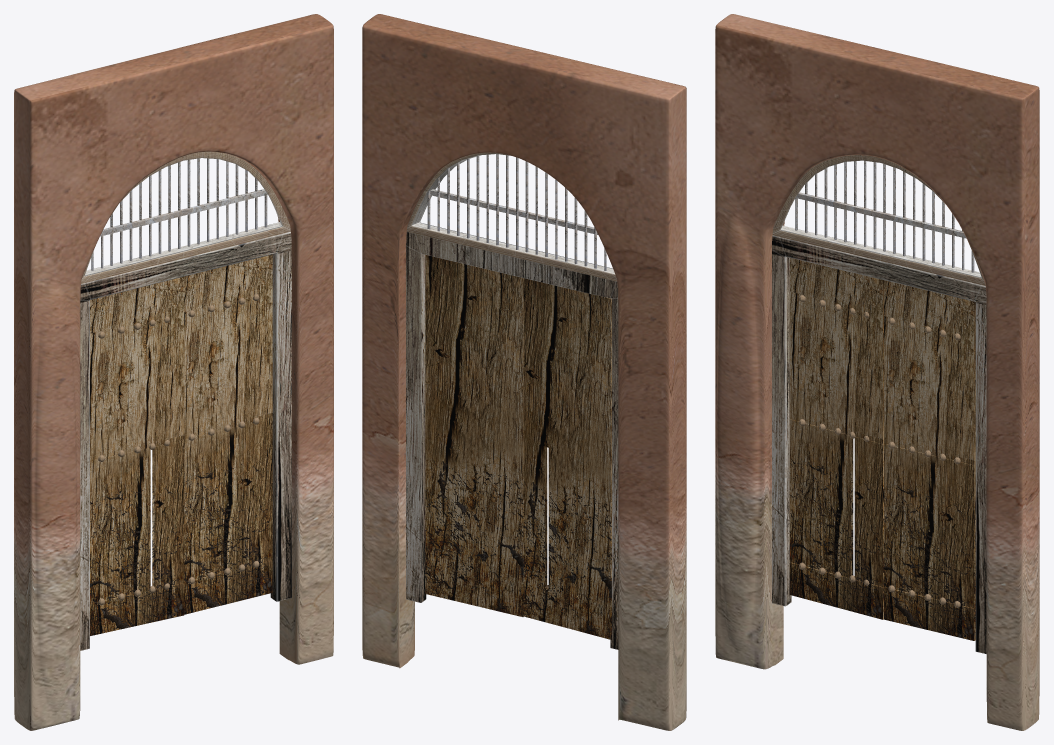
File: PuertaCerrada.obj
3 renders of one model, left to right at view 1: azimuth 30°, elevation 25°; view 2: azimuth 150°, elevation 25°; view 3: azimuth 330°, elevation 25°, orthographic.
Parts seen in each view (by area): view 1: polySurface4_Untitled.059; view 2: polySurface4_Untitled.059; view 3: polySurface4_Untitled.059.
Part boxes in pixels (box(x1,y1,x2,y2)): polySurface4_Untitled.059: box(14, 14, 333, 730); polySurface4_Untitled.059: box(362, 14, 686, 730); polySurface4_Untitled.059: box(715, 14, 1039, 730).
Size of the model in its own units: 0.5865 by 1.16 by 0.0784.
Materials: 5 (5 with a texture image).
